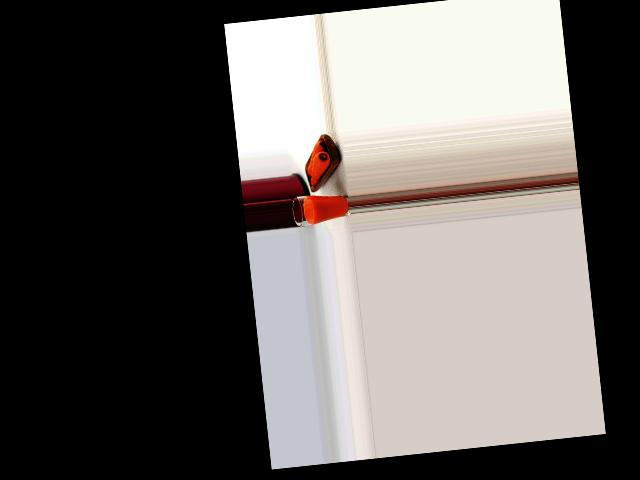carrot: (304, 138, 330, 172)
